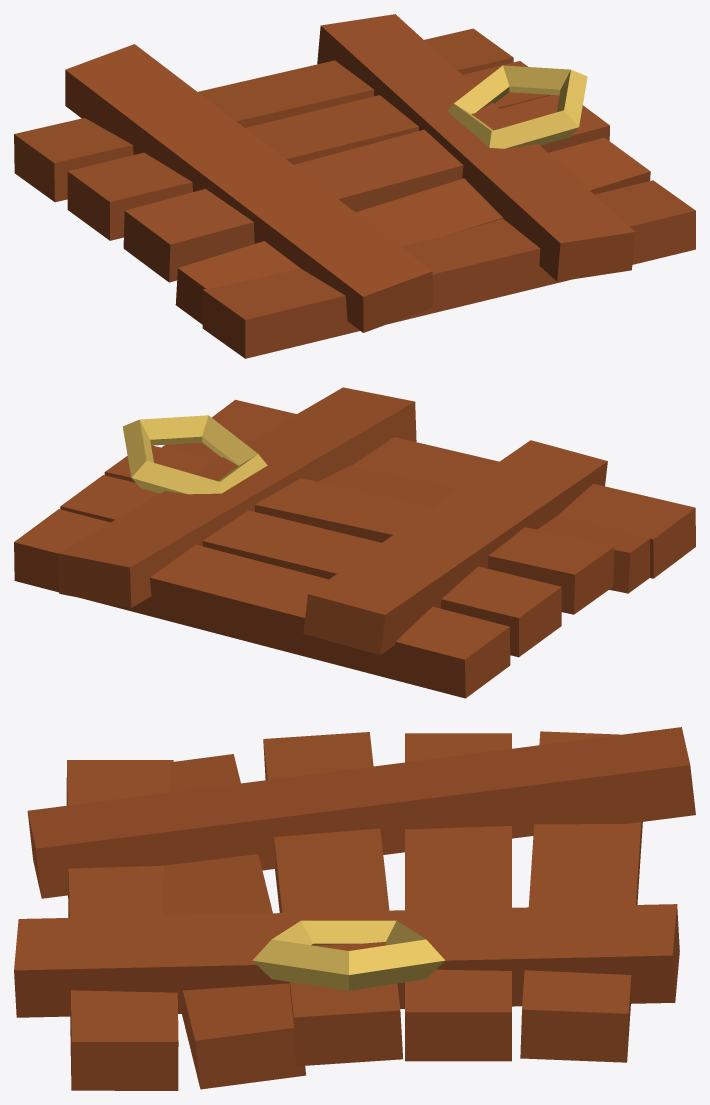
The model's file is trapdoor.fbx.
The picture shows the model from 3 angles, top to bottom: view 1: azimuth 30°, elevation 25°; view 2: azimuth 150°, elevation 25°; view 3: azimuth 270°, elevation 25°; orthographic projection. The views are drawn at different scales.
Parts seen in each view (by area): view 1: Trapdoor; view 2: Trapdoor; view 3: Trapdoor.
Boxes of the visible parts, x1,y1,x2,y2 form: Trapdoor: (14,14,695,358); Trapdoor: (14,387,695,698); Trapdoor: (14,727,695,1090).
Size of the model in its own units: 441 by 95.36 by 448.
